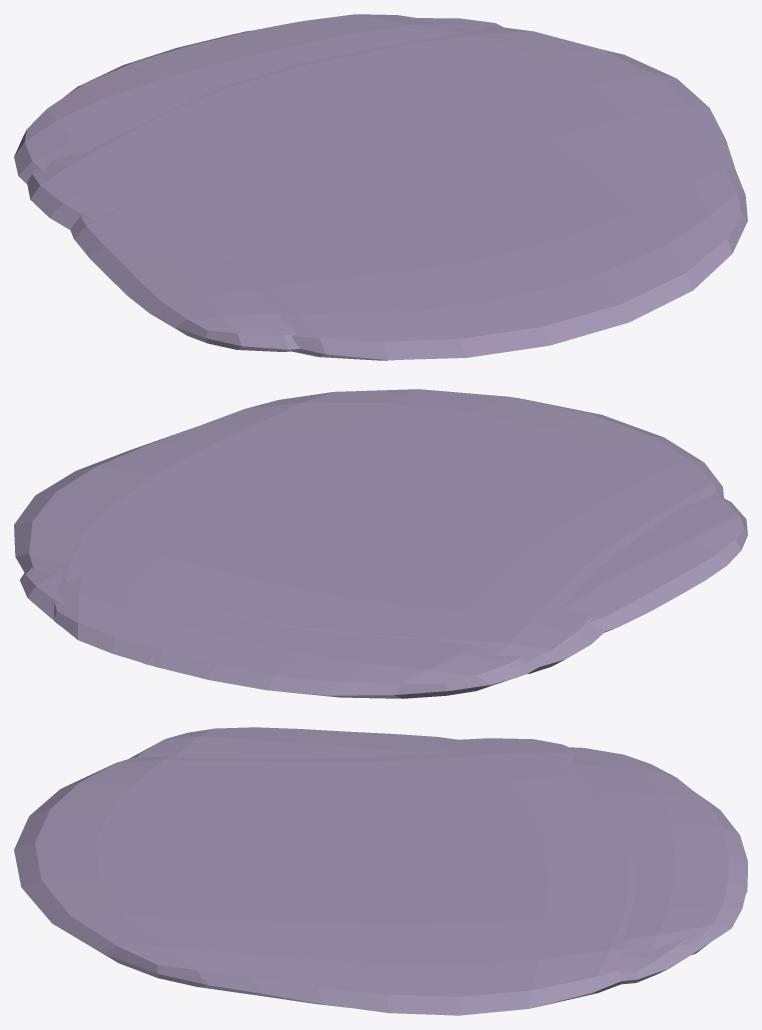
Rendered from CobbleStonesCollection.fbx.
3 views of the same model, one above another, from view 1: azimuth 30°, elevation 25°; view 2: azimuth 150°, elevation 25°; view 3: azimuth 270°, elevation 25° (orthographic). The views are drawn at different scales.
Parts seen in each view (by area): view 1: CobbleStone1, CobbleStone3, CobbleStone2, CobbleStone4; view 2: CobbleStone1, CobbleStone3, CobbleStone2, CobbleStone4; view 3: CobbleStone1, CobbleStone3, CobbleStone2, CobbleStone4.
Part boxes in pixels (x1,y1,x2,y2): CobbleStone1: [27, 26, 747, 360]; CobbleStone3: [14, 14, 449, 184]; CobbleStone2: [70, 207, 299, 351]; CobbleStone4: [240, 18, 503, 32]; CobbleStone1: [14, 389, 723, 673]; CobbleStone3: [53, 575, 538, 698]; CobbleStone2: [562, 494, 747, 632]; CobbleStone4: [20, 567, 155, 665]; CobbleStone1: [14, 738, 641, 1015]; CobbleStone3: [561, 747, 747, 954]; CobbleStone2: [129, 727, 456, 758]; CobbleStone4: [619, 884, 747, 984].
Size of the model in its own units: 150 by 6.45 by 163.
